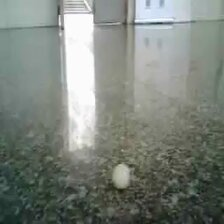w: (110, 162, 133, 192)
